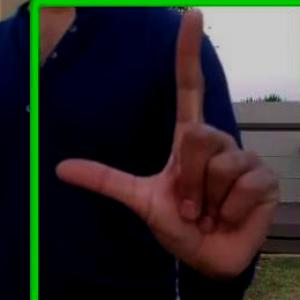land_hand: (46, 1, 287, 286)
